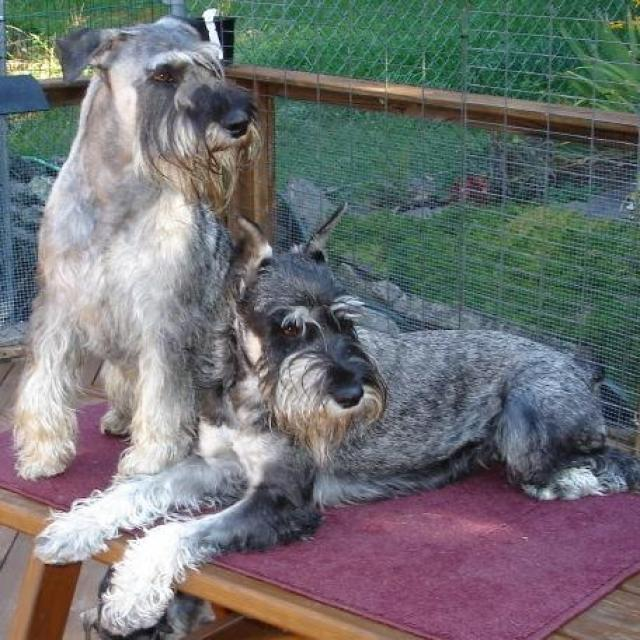standard_schnauzer: (28, 198, 632, 636), (14, 17, 258, 488)
